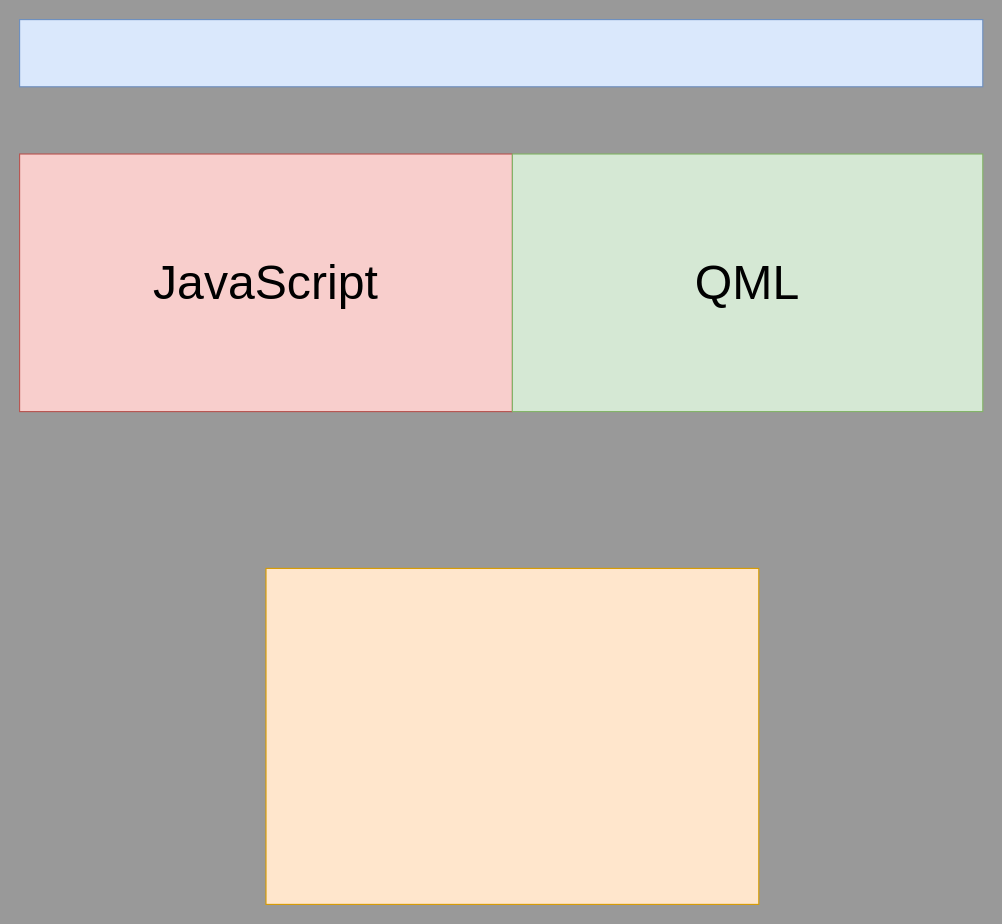
The diagram is 1002 pixels wide and 924 high, and some of its shapes have lost their labels. Here are the shapes that lost their labels. From the top down, the box of each, then its label:
(18, 18, 983, 87): JavaScript Indirect Imports.
(265, 567, 759, 904): JavaScript code doesn't directly land into QML territory.
